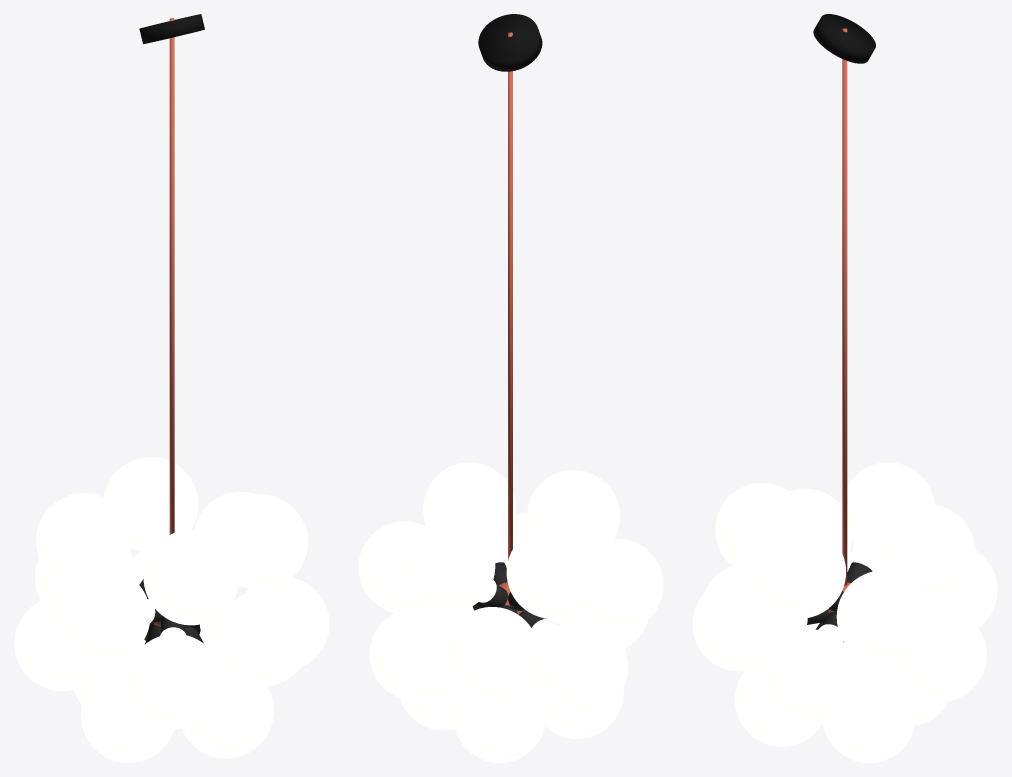
File: bubblegum.glb
The picture shows the model from 3 angles, left to right: view 1: azimuth 30°, elevation 25°; view 2: azimuth 150°, elevation 25°; view 3: azimuth 270°, elevation 25°; orthographic projection. The views are drawn at different scales.
Visible parts, largest first — view 1: GEO-bulb_06, GEO-bulb_09, GEO-bulb_03, GEO-bulb_01, GEO-bulb_00, GEO-bulb_04, GEO-bulb_02, GEO-bulb_11, GEO-bulb_14, GEO-bulb_08, GEO-drop_cord, GEO-bulb_12 (+4 smaller); view 2: GEO-bulb_08, GEO-bulb_02, GEO-bulb_00, GEO-bulb_05, GEO-bulb_10, GEO-bulb_04, GEO-bulb_03, GEO-bulb_13, GEO-bulb_01, GEO-bulb_07, GEO-ceiling_cap, GEO-drop_cord (+3 smaller); view 3: GEO-bulb_12, GEO-bulb_04, GEO-bulb_07, GEO-bulb_09, GEO-bulb_02, GEO-bulb_15, GEO-bulb_10, GEO-bulb_00, GEO-bulb_01, GEO-bulb_14, GEO-drop_cord, GEO-bulb_05 (+3 smaller).
Part boxes in pixels (box(x1,y1,x2,y2)): GEO-bulb_06: box(127, 617, 222, 729); GEO-bulb_09: box(186, 591, 310, 686); GEO-bulb_03: box(55, 568, 164, 663); GEO-bulb_01: box(143, 529, 238, 625); GEO-bulb_00: box(36, 493, 148, 598); GEO-bulb_04: box(213, 494, 308, 589); GEO-bulb_02: box(103, 457, 198, 560); GEO-bulb_11: box(81, 625, 173, 762); GEO-bulb_14: box(182, 627, 273, 758); GEO-bulb_08: box(14, 595, 154, 690); GEO-drop_cord: box(169, 18, 174, 534); GEO-bulb_12: box(233, 577, 329, 667); GEO-bulb_08: box(519, 610, 628, 712); GEO-bulb_02: box(402, 519, 507, 612); GEO-bulb_00: box(506, 526, 599, 618); GEO-bulb_05: box(446, 605, 538, 699); GEO-bulb_10: box(369, 605, 488, 700); GEO-bulb_04: box(423, 462, 516, 584); GEO-bulb_03: box(578, 538, 663, 631); GEO-bulb_13: box(453, 681, 546, 762); GEO-bulb_01: box(527, 470, 620, 545); GEO-bulb_07: box(358, 521, 487, 612); GEO-ceiling_cap: box(478, 14, 542, 71); GEO-drop_cord: box(508, 32, 512, 584); GEO-bulb_12: box(764, 611, 857, 722); GEO-bulb_04: box(752, 525, 845, 618); GEO-bulb_07: box(836, 570, 930, 663); GEO-bulb_09: box(692, 577, 828, 671); GEO-bulb_02: box(873, 504, 974, 597); GEO-bulb_15: box(823, 641, 915, 762); GEO-bulb_10: box(894, 608, 986, 701); GEO-bulb_00: box(841, 462, 934, 582); GEO-bulb_01: box(715, 483, 808, 575); GEO-bulb_14: box(735, 622, 823, 746); GEO-drop_cord: box(842, 28, 847, 585); GEO-bulb_05: box(926, 550, 997, 627).
Size of the model in its own units: 0.4831 by 1.26 by 0.4875.
